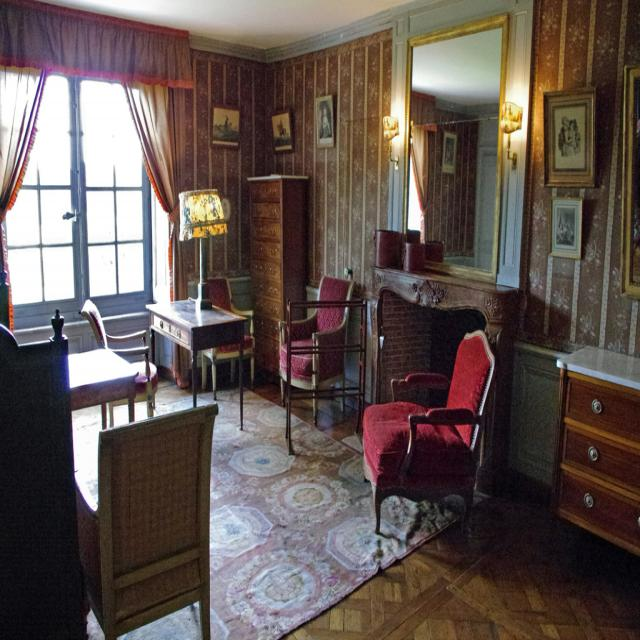chair: (80, 398, 219, 638), (363, 328, 496, 557), (0, 326, 88, 635), (279, 273, 358, 456), (80, 297, 158, 421), (199, 275, 255, 404)
desk: (54, 310, 162, 437)
